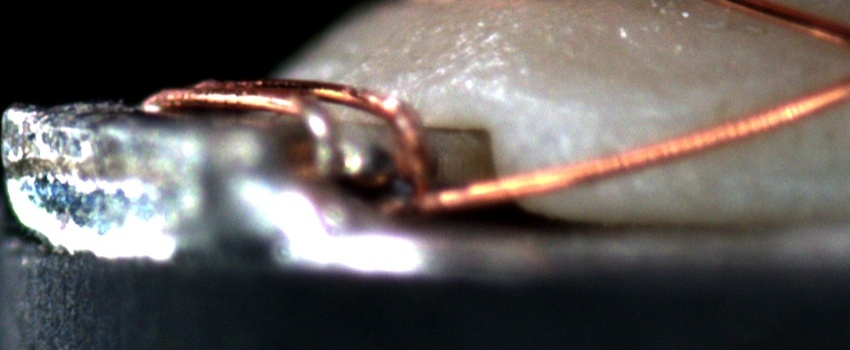DL: (569, 80, 721, 133)
TE: (136, 71, 437, 223)
